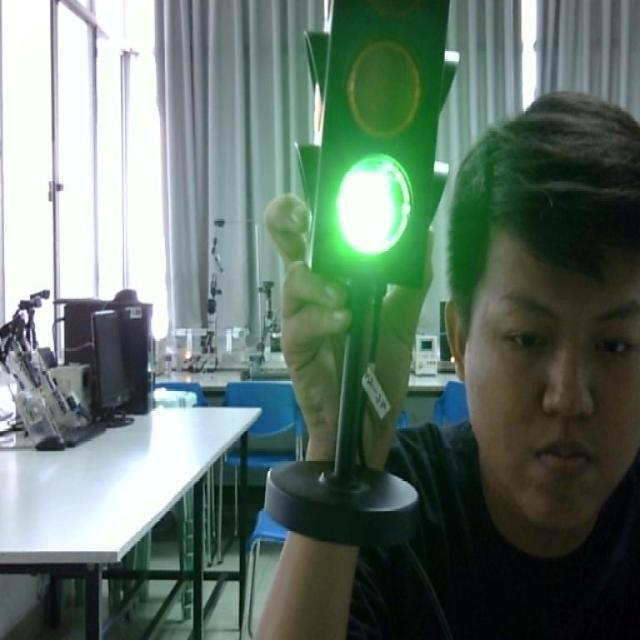green_light: (306, 0, 456, 285)
